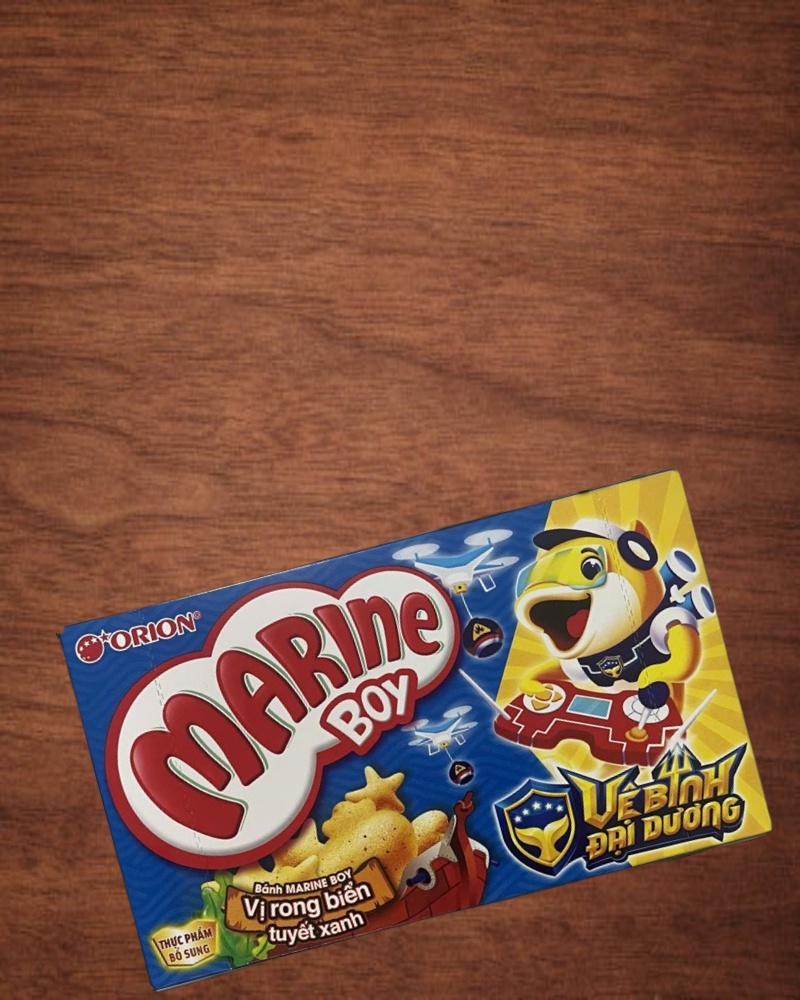Marine: (58, 462, 778, 998)
